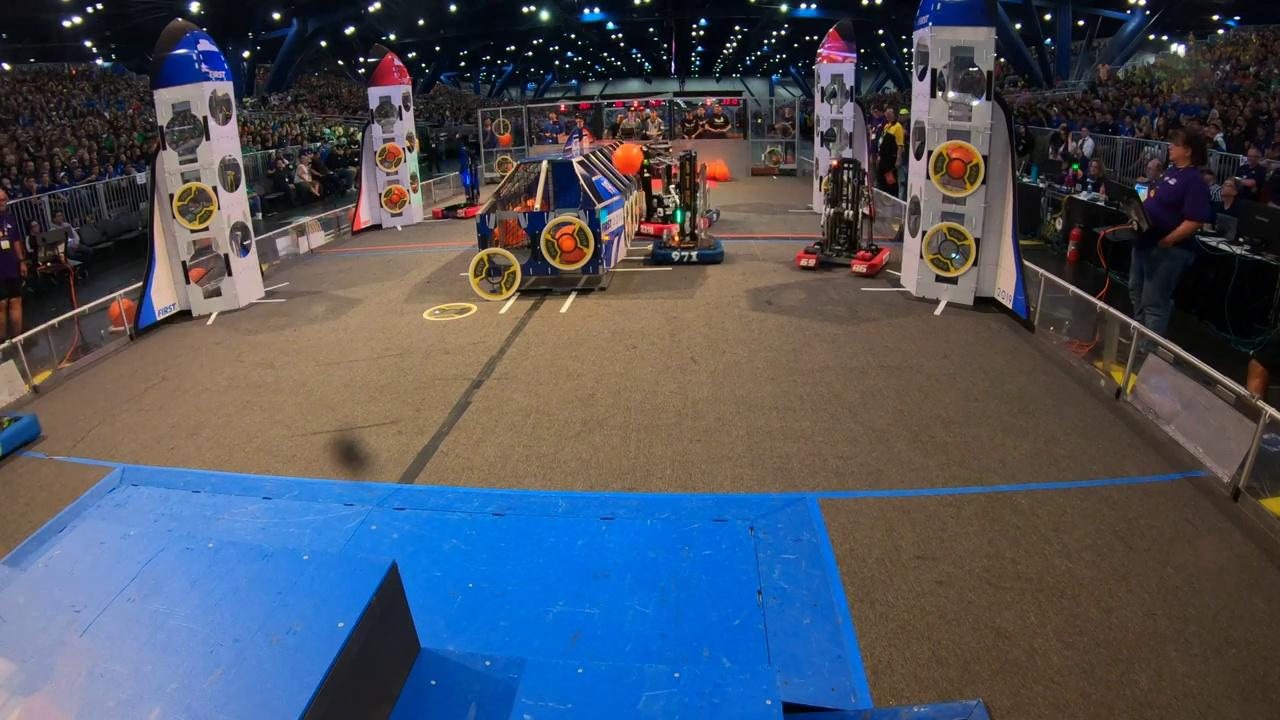robot: (790, 155, 894, 281), (647, 150, 728, 267), (633, 143, 706, 240), (430, 133, 494, 224)
